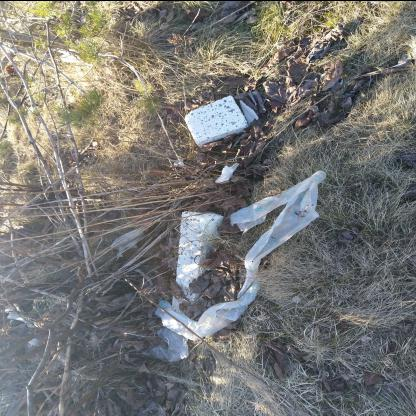kopuk: (172, 209, 224, 325), (184, 94, 248, 146)
